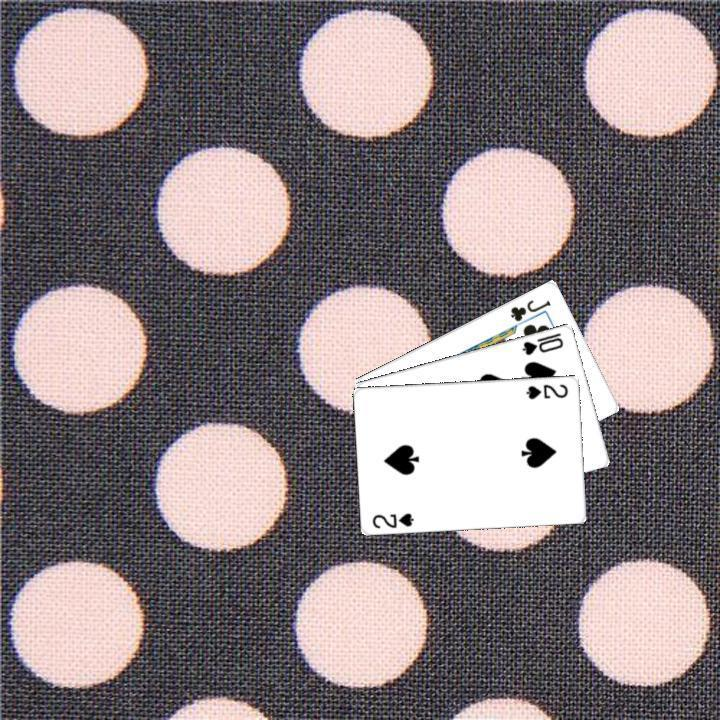10: (518, 328, 565, 357)
2: (522, 379, 570, 401), (368, 509, 416, 530)
J: (506, 295, 553, 323)
